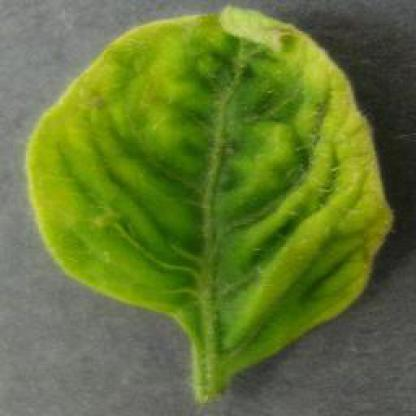good leaf: (26, 10, 402, 384)
